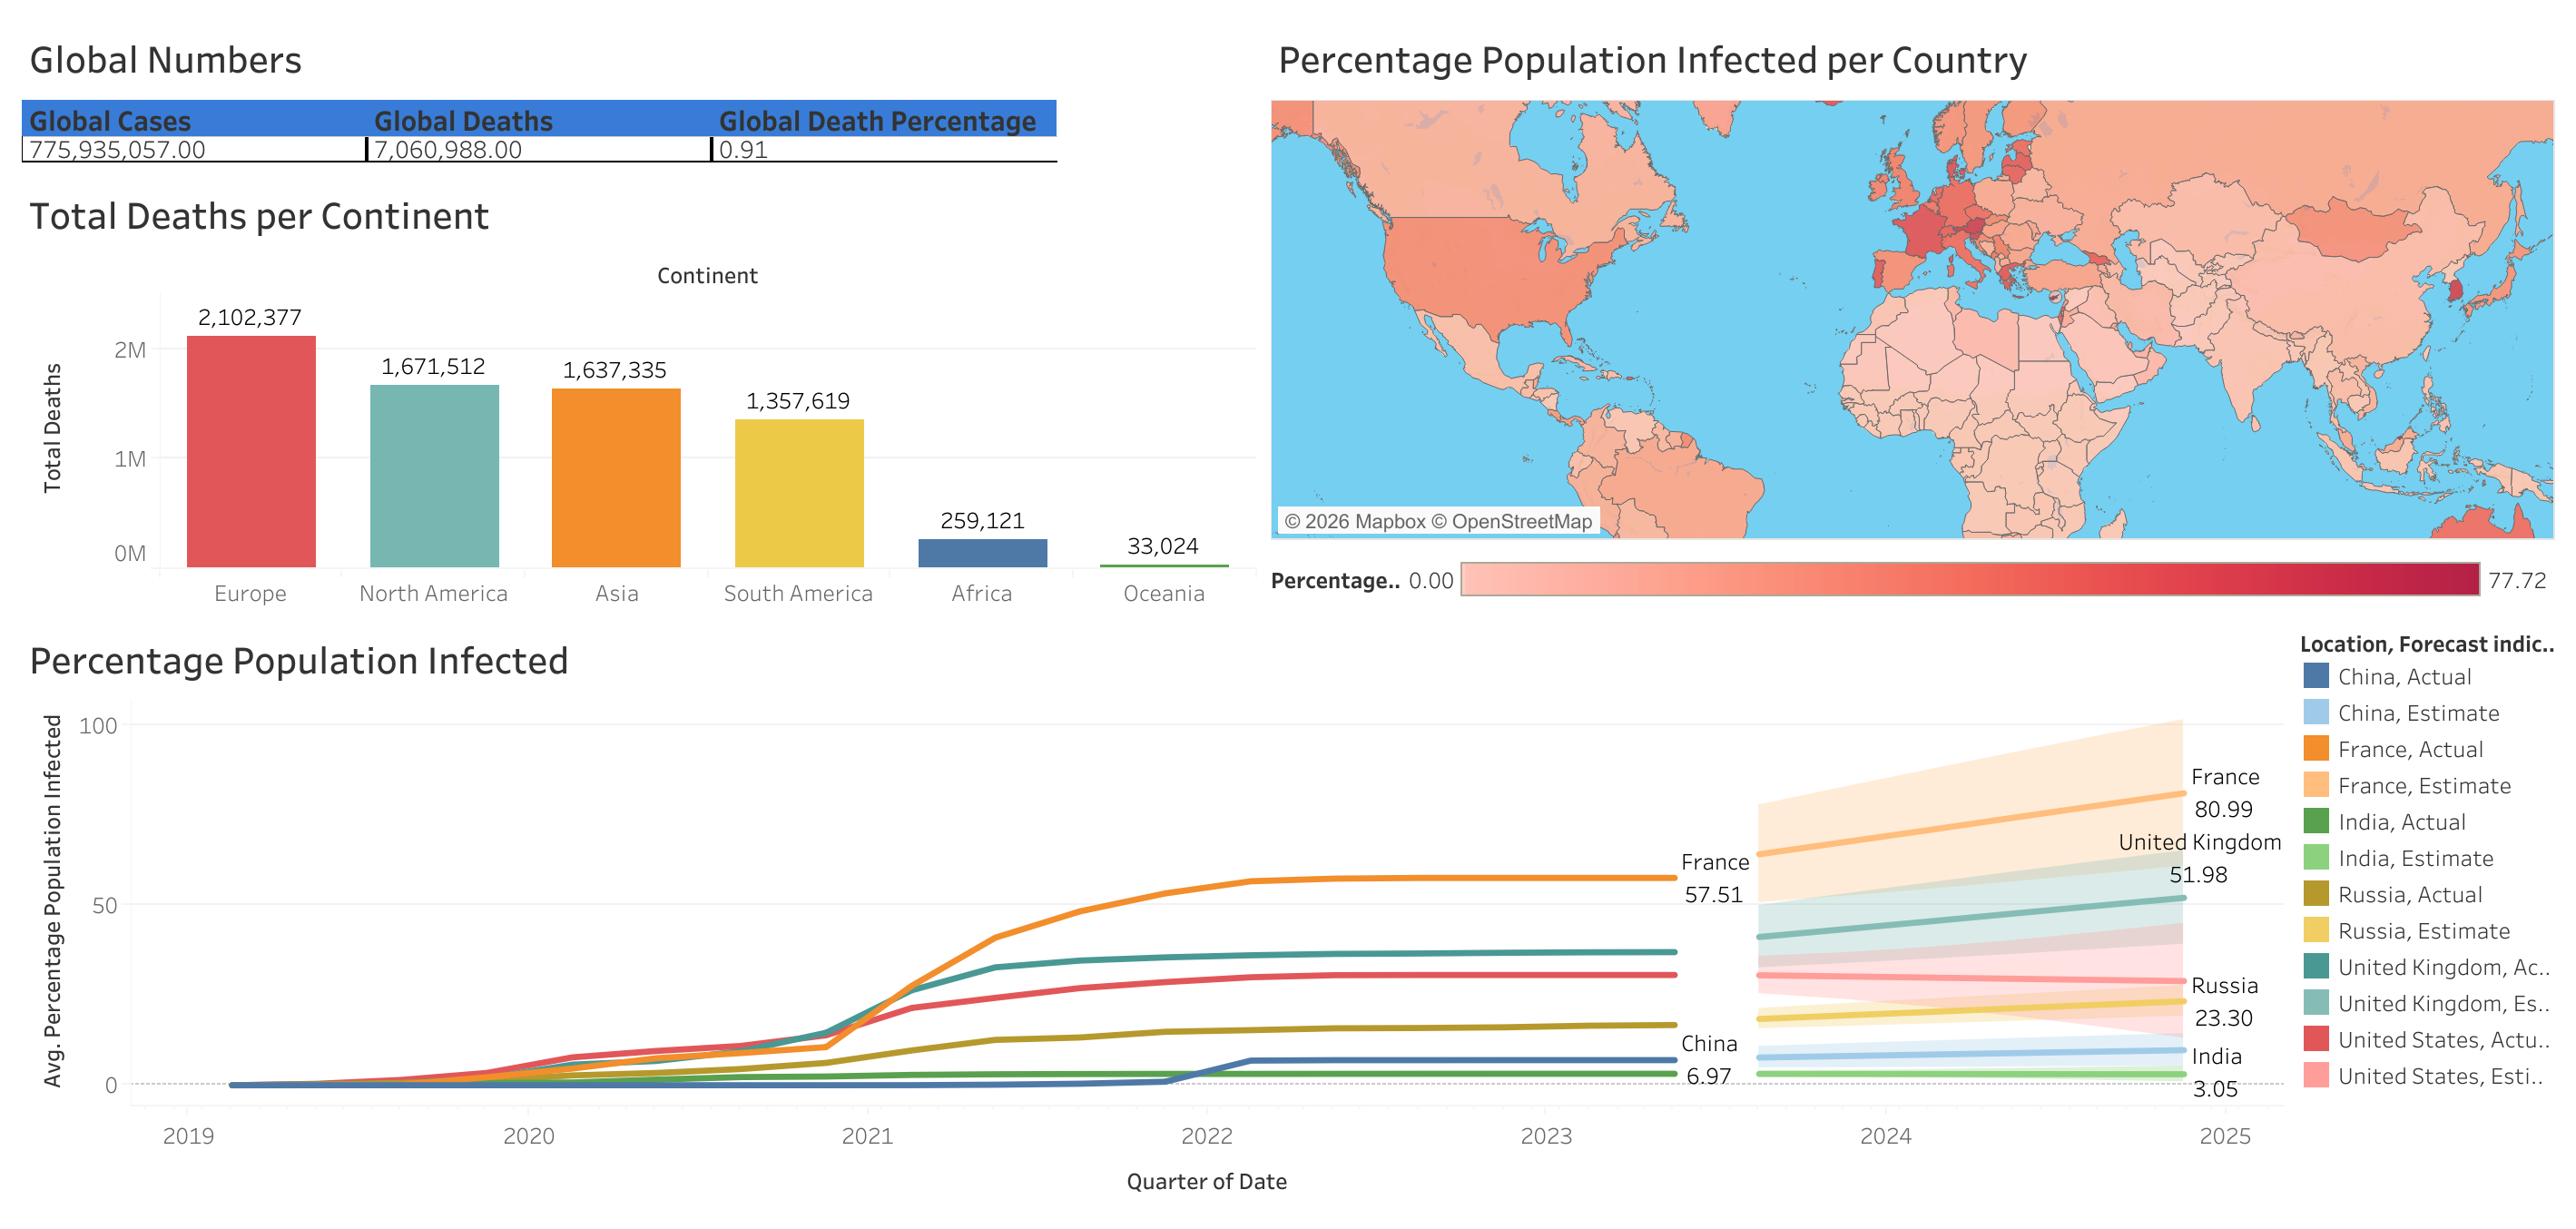

The dashboard page shown, as its layout file describes it:
{"tool":"tableau","page":{"name":"Dashboard 2","canvas":[1000,1000],"units":"permille","ordinal":0},"visuals":[{"type":"worksheet","title":"Sheet 1","mark":"Automatic","box":[6.5,10.1,483.9,127.7]},{"type":"worksheet","title":"Sheet 3","mark":"Automatic","box":[490.3,10.1,503.2,435.6]},{"type":"worksheet","title":"Sheet 2","mark":"Automatic","rows":["total_deaths"],"cols":["location"],"box":[6.5,137.8,483.9,361.6]},{"type":"legend","title":"Sheet 3","param":"[federated.1aiz7x00s8r5ih1dr7bti1sokrmp].[sum:percentage_population_infected:qk]","box":[490.3,445.7,503.2,53.7]},{"type":"worksheet","title":"Sheet 4","mark":"Automatic","rows":["percentage_population_infected"],"cols":["date"],"box":[6.5,499.4,881.5,490.5]},{"type":"legend","title":"Sheet 4","param":"[federated.0nokmt81wny2c919k6tb40w1kx6h].[none:location:nk]\n[federated.0nokmt81w","box":[887.9,499.4,105.7,490.5]}]}

Visuals, with their boxes on the dashboard's canvas, which has no fixed pixel size, in thousandths of its width and height (x1, y1, x2, y2). These are canvas units, not pixel positions in the 2576x1229 screenshot, which may show the page scaled, cropped or inside an application window:
"Sheet 1" worksheet: 6:10:490:138
"Sheet 3" worksheet: 490:10:994:446
"Sheet 2" worksheet: 6:138:490:499
"Sheet 3" legend: 490:446:994:499
"Sheet 4" worksheet: 6:499:888:990
"Sheet 4" legend: 888:499:994:990
